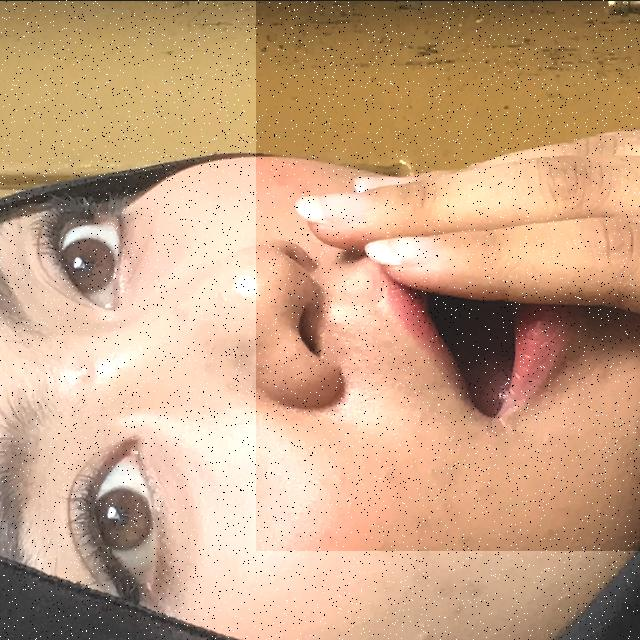ngantuk: (256, 0, 640, 550)
